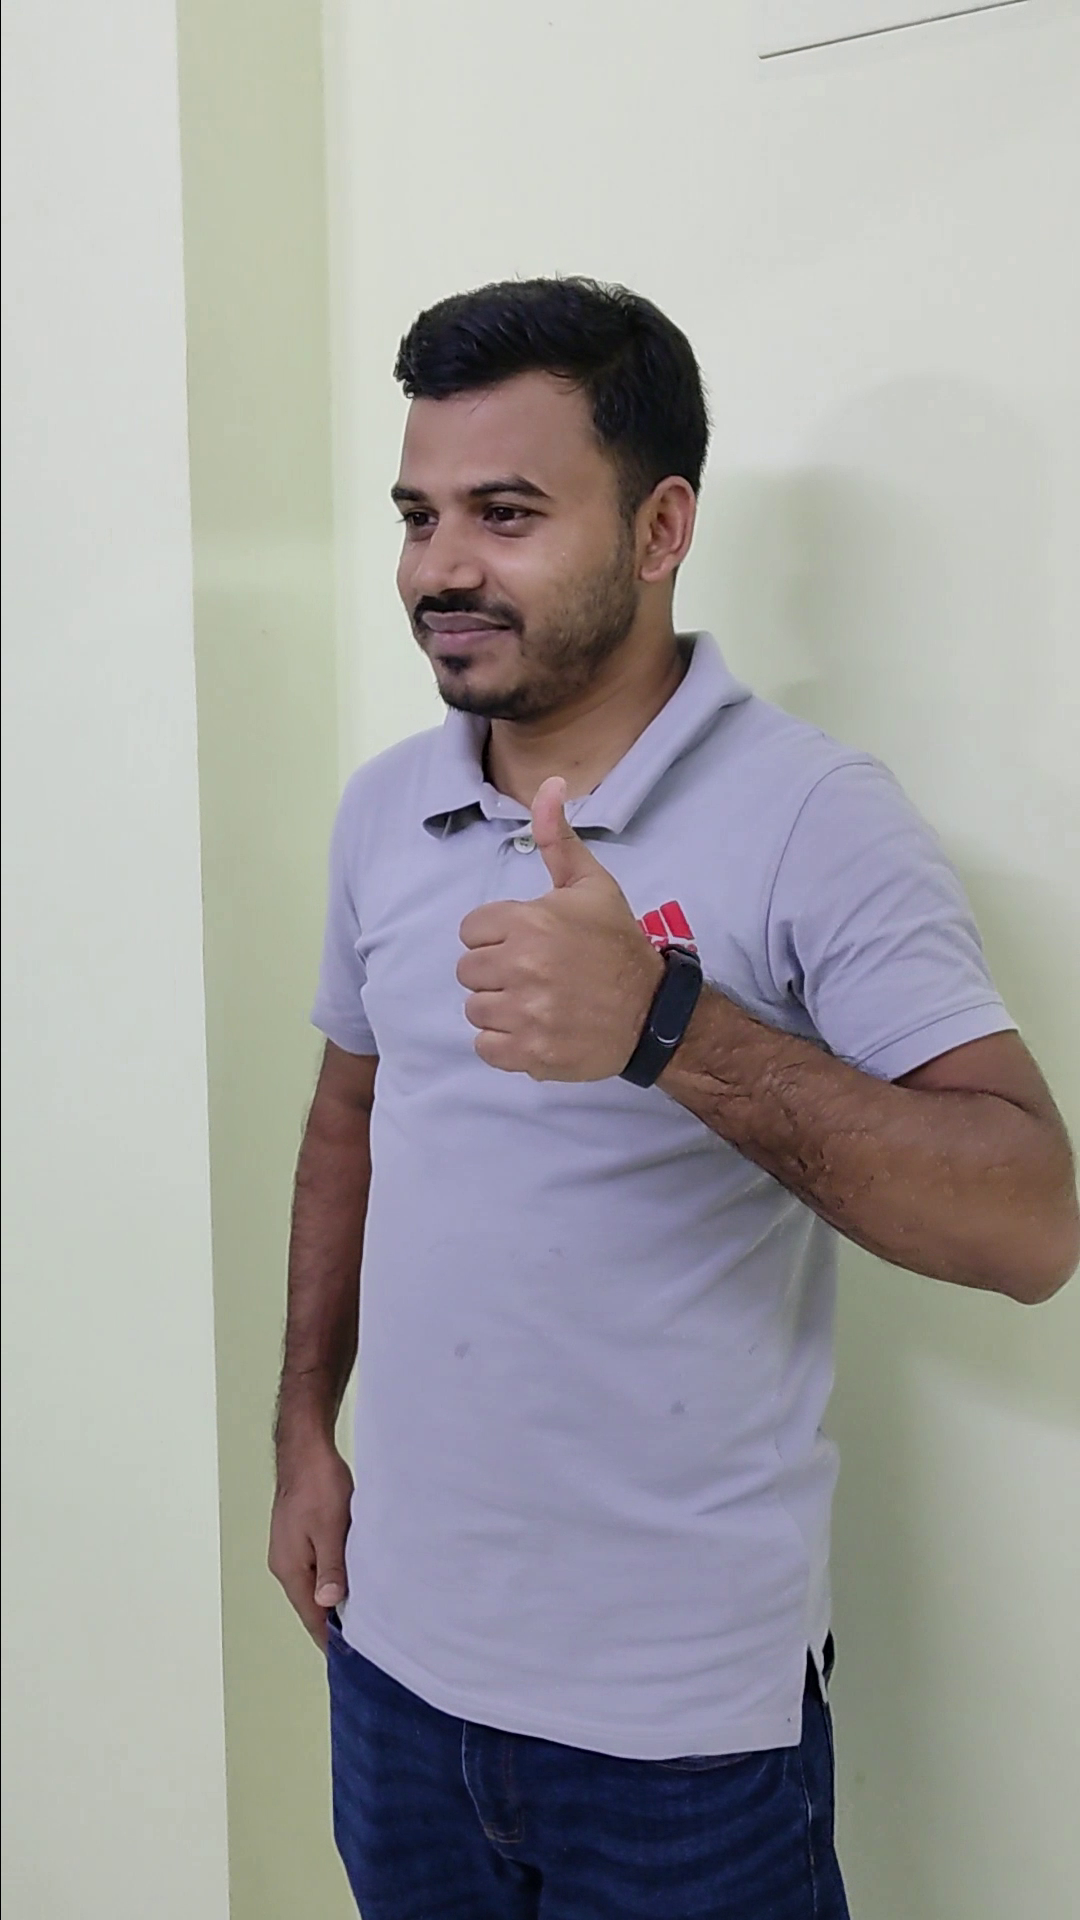Like: (427, 760, 674, 1098)
None: (231, 1378, 378, 1672)
